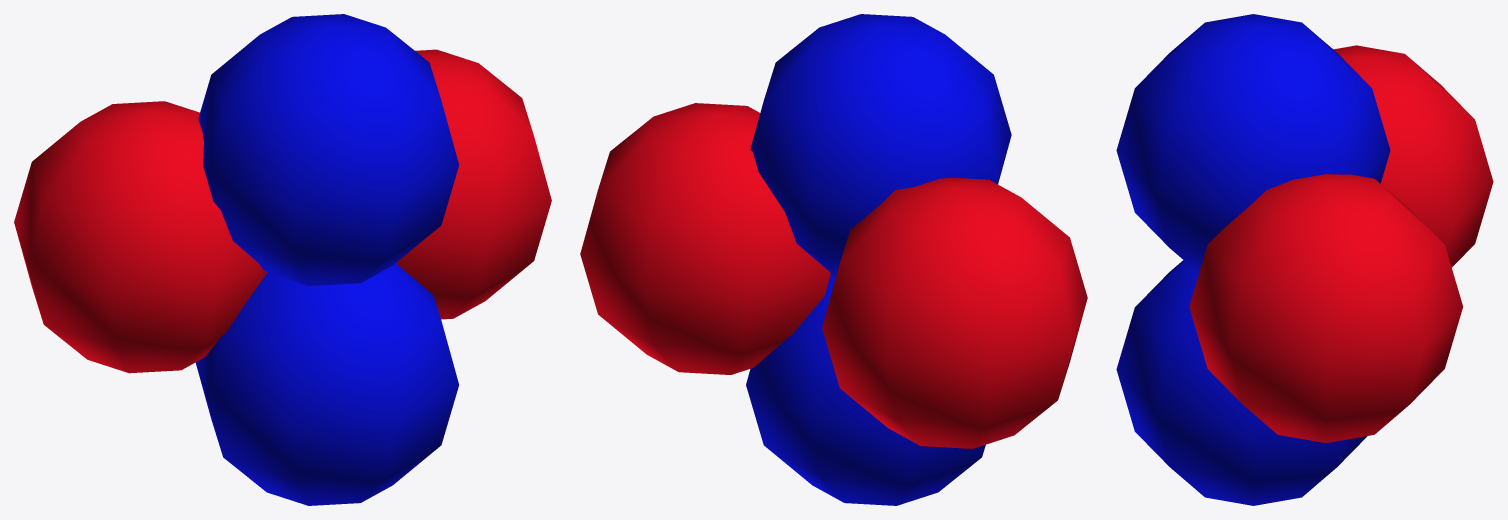
Rendered from Alpha.fbx.
3 renders of one model, left to right at view 1: azimuth 30°, elevation 25°; view 2: azimuth 150°, elevation 25°; view 3: azimuth 270°, elevation 25°, orthographic.
Visible parts, largest first — view 1: Sphere; view 2: Sphere; view 3: Sphere.
Boxes of the visible parts, x1=… form: Sphere: x1=14, y1=14, x2=551, y2=505; Sphere: x1=580, y1=14, x2=1087, y2=505; Sphere: x1=1116, y1=14, x2=1493, y2=505.
Size of the model in its own units: 0.4988 by 0.4516 by 0.3302.
